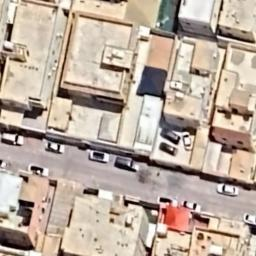SUV: (0, 132, 27, 148)
sedan: (86, 148, 114, 165), (25, 163, 55, 178), (215, 182, 242, 198), (39, 142, 67, 156), (180, 198, 204, 214), (158, 142, 180, 158), (156, 194, 178, 208), (182, 126, 192, 152), (243, 210, 256, 225)
van: (111, 156, 141, 172), (159, 125, 181, 144)
